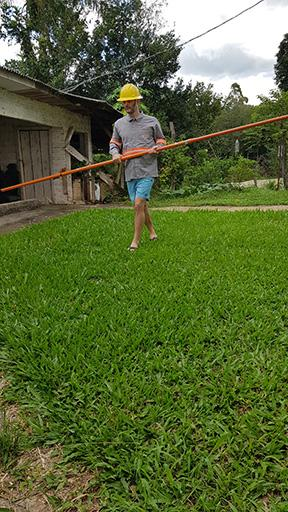Vara_Manobra: (1, 114, 285, 190)
